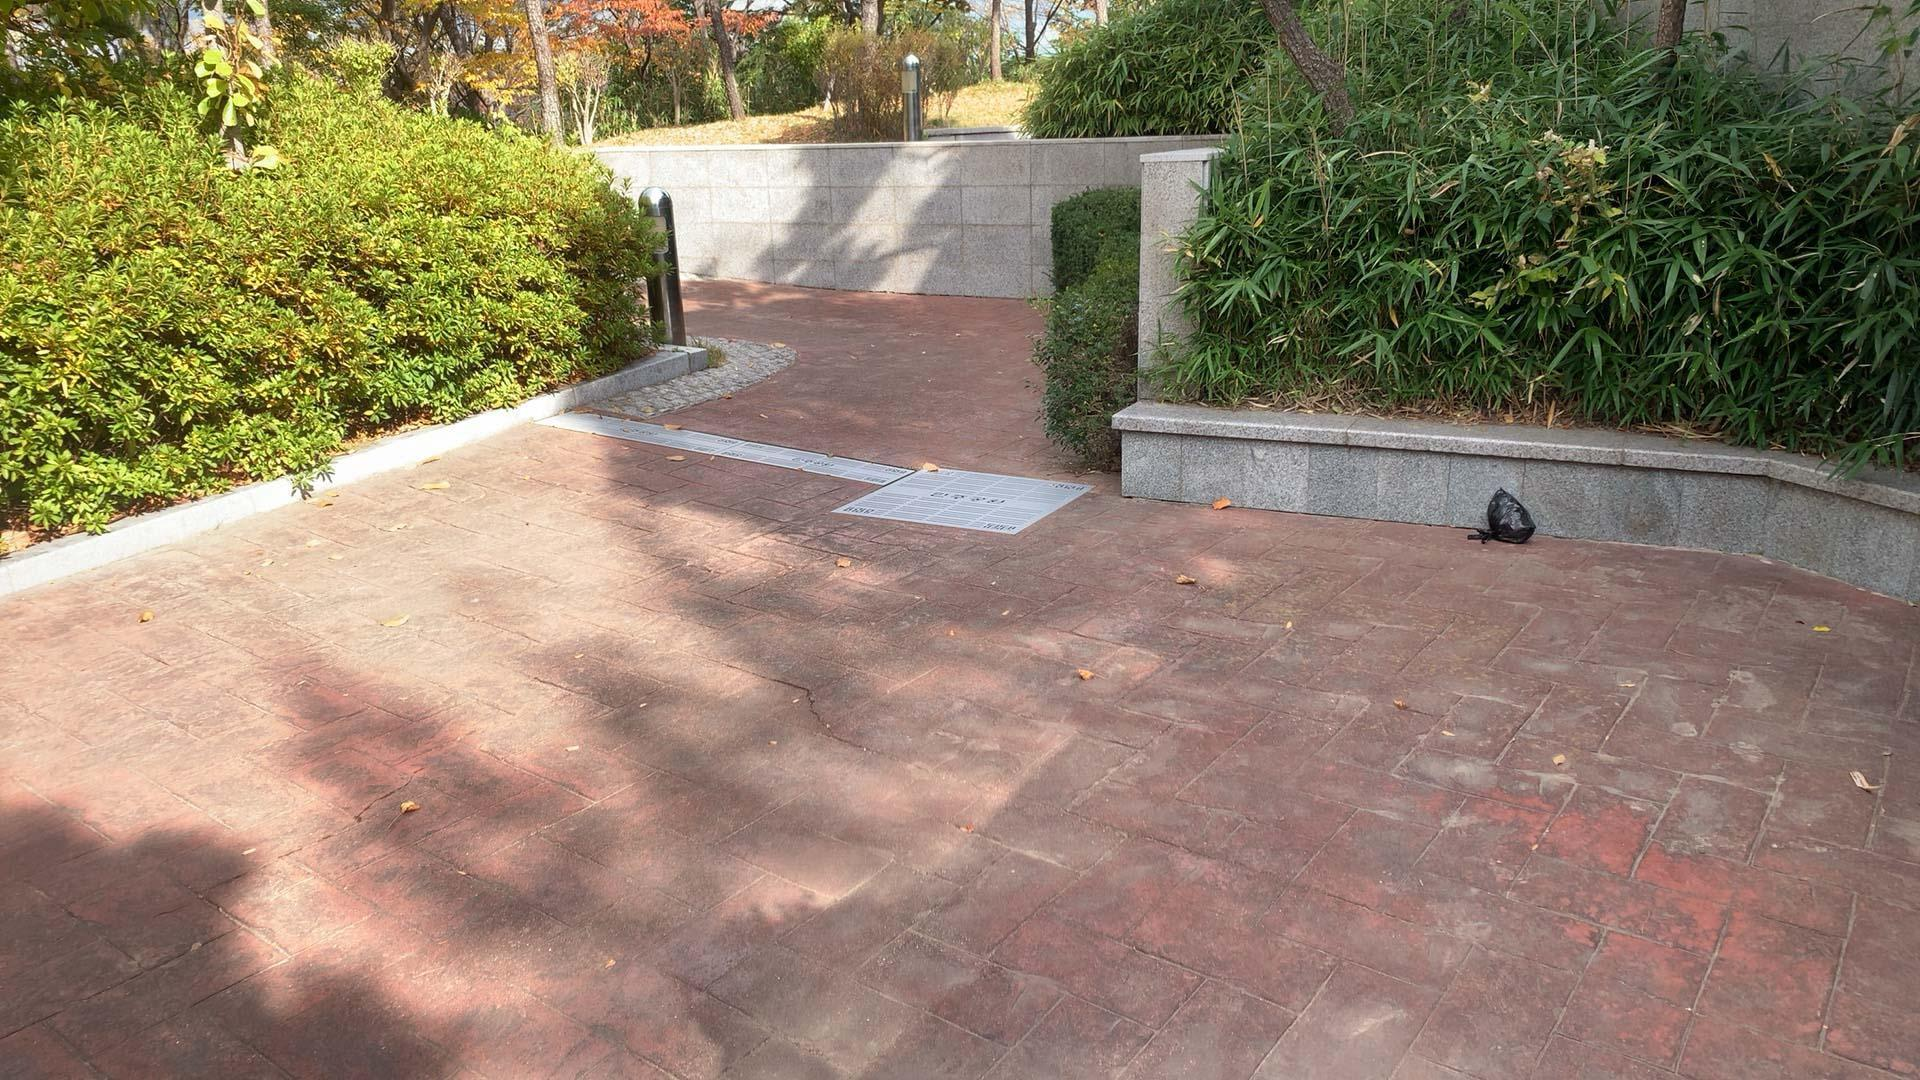black_bag: (1462, 483, 1538, 553)
